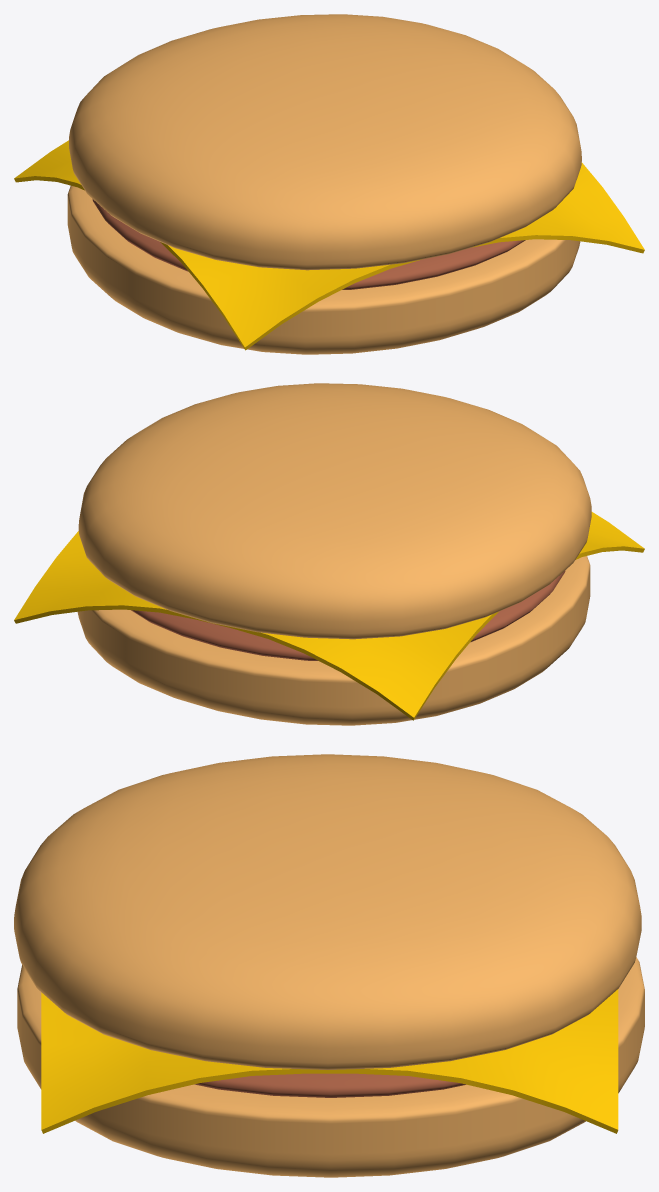
Rendered from hamburger.glb.
3 views of the same model, one above another, from view 1: azimuth 30°, elevation 25°; view 2: azimuth 150°, elevation 25°; view 3: azimuth 270°, elevation 25° (orthographic). The views are drawn at different scales.
Visible parts, largest first — view 1: topBun, bottomBun, cheese, meat; view 2: topBun, bottomBun, cheese, meat; view 3: topBun, bottomBun, cheese, meat.
Boxes of the visible parts, x1,y1,x2,y2 form: topBun: (69,14,581,270); bottomBun: (67,185,580,354); cheese: (14,140,644,350); meat: (92,199,525,289); topBun: (78,383,591,639); bottomBun: (77,556,590,725); cheese: (14,512,644,720); meat: (131,570,565,660); topBun: (14,754,641,1069); bottomBun: (17,957,644,1177); cheese: (41,989,618,1133); meat: (194,1073,465,1097).
Size of the model in its own units: 9.17 by 3.88 by 9.21.
